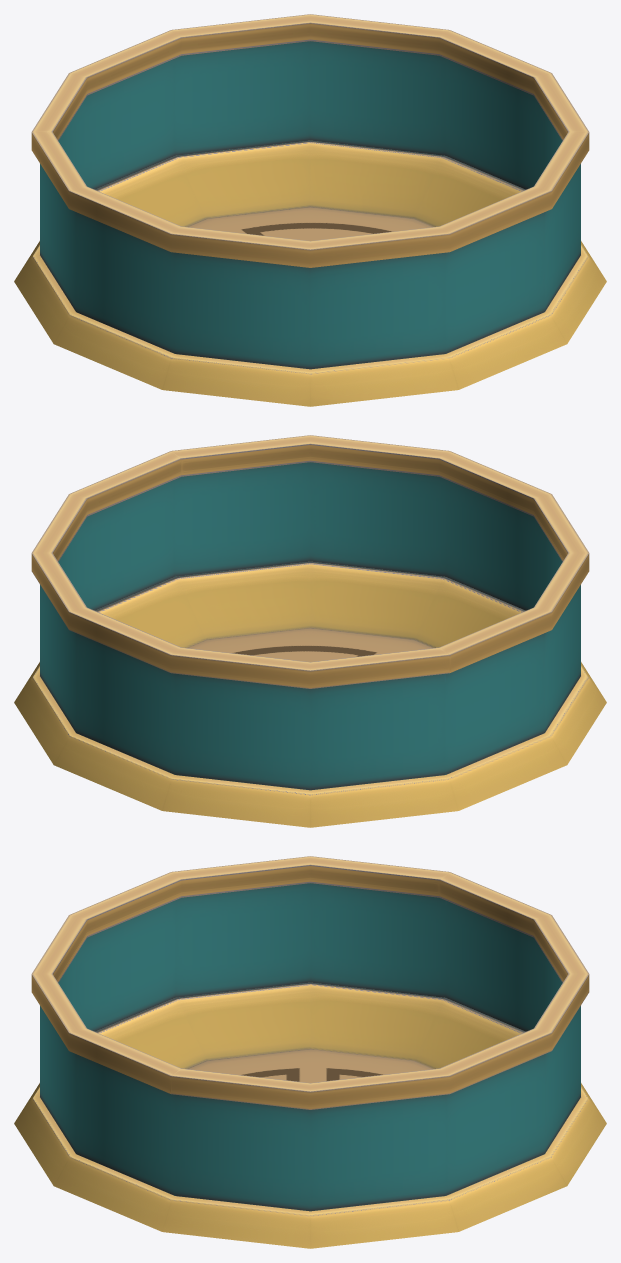
The model's file is Platform_Final.fbx.
3 renders of one model, top to bottom at view 1: azimuth 30°, elevation 25°; view 2: azimuth 150°, elevation 25°; view 3: azimuth 270°, elevation 25°, orthographic.
Visible parts, largest first — view 1: polySurface7, polySurface3, polySurface8; view 2: polySurface7, polySurface3, polySurface8; view 3: polySurface7, polySurface3, polySurface8.
Boxes of the visible parts, left/top/right/bottom form: polySurface7: left=40, top=41, right=580, bottom=369; polySurface3: left=14, top=140, right=606, bottom=406; polySurface8: left=31, top=14, right=589, bottom=267; polySurface7: left=40, top=462, right=580, bottom=790; polySurface3: left=14, top=561, right=606, bottom=827; polySurface8: left=31, top=435, right=589, bottom=688; polySurface7: left=40, top=883, right=580, bottom=1211; polySurface3: left=14, top=982, right=606, bottom=1248; polySurface8: left=31, top=856, right=589, bottom=1109.
Bounding box in the file's own units: 5.79 × 1.75 × 5.79.
1 material, 1 textured.
